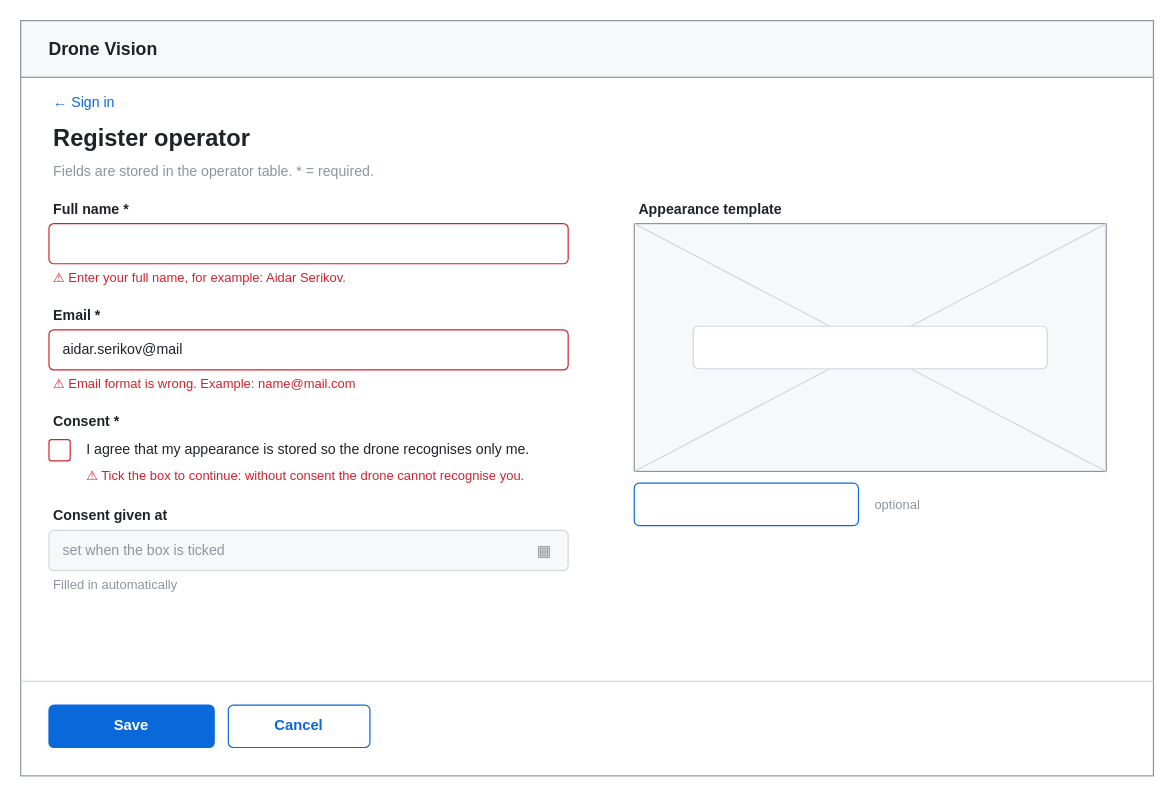
Some shapes in this 1175 by 796 pixel diagram are drawn without their labels. The shapes that lost their labels are listed below. From the top down, each one's centre as x and y in pixels, then its label:
At [869,347]: "Camera preview".
At [745,504]: "Capture from camera".
